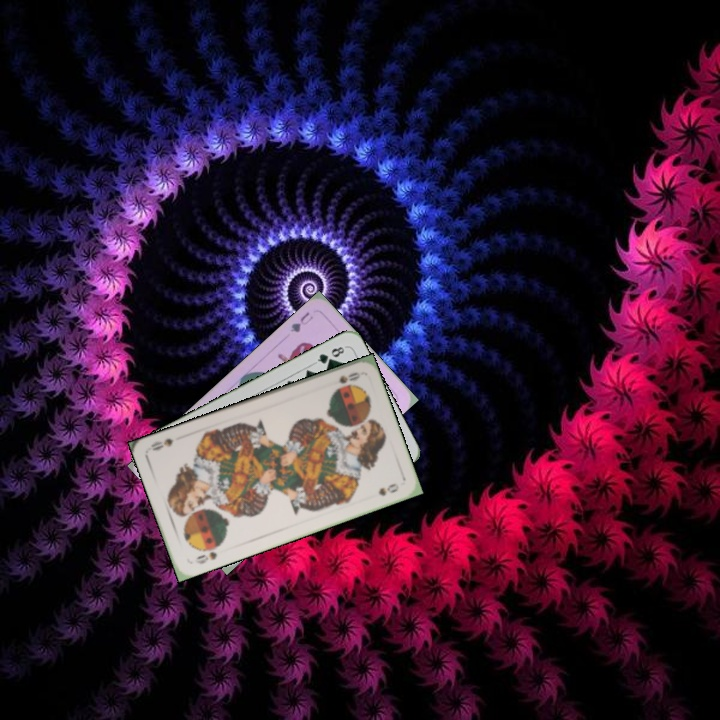G8: (311, 342, 348, 367)
GU: (286, 308, 316, 335)
SO: (190, 541, 224, 567), (335, 368, 363, 386)
